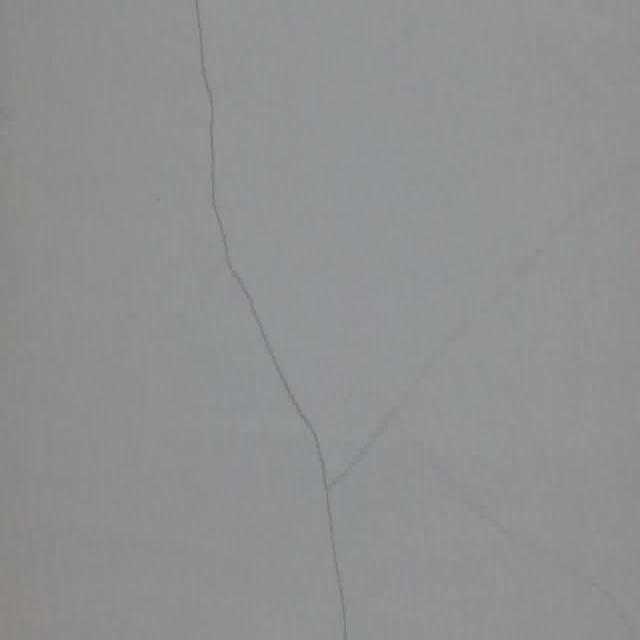Crack: (193, 0, 375, 636)
